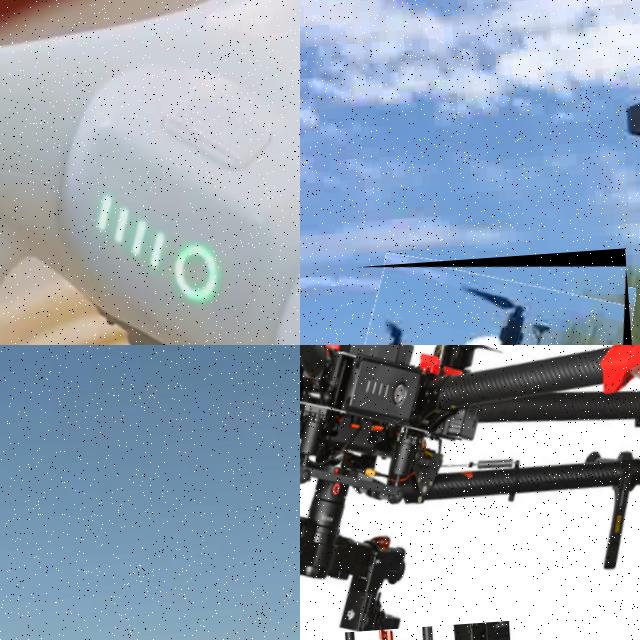0: (355, 248, 638, 345)
drone: (0, 0, 300, 345), (300, 345, 640, 640)
